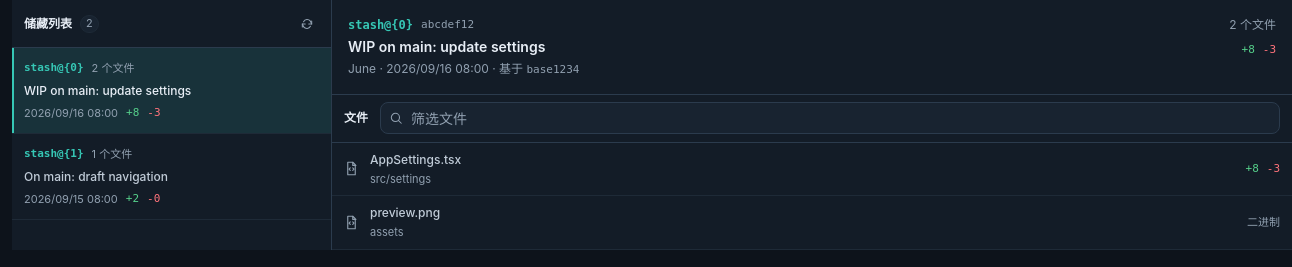
Test: RepositoryStashBrowser › returns to the right-clicked stash on Escape (shift: false)
Right-click the button with aria-label "stash@{1} On main: draft navigation" at (54, 154), box [12,134,331,220]
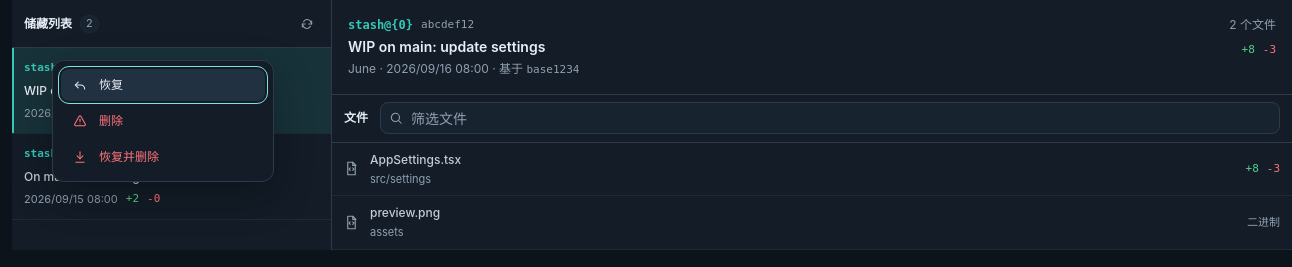
Press Escape in the menu item "恢复", box [61,69,265,101]
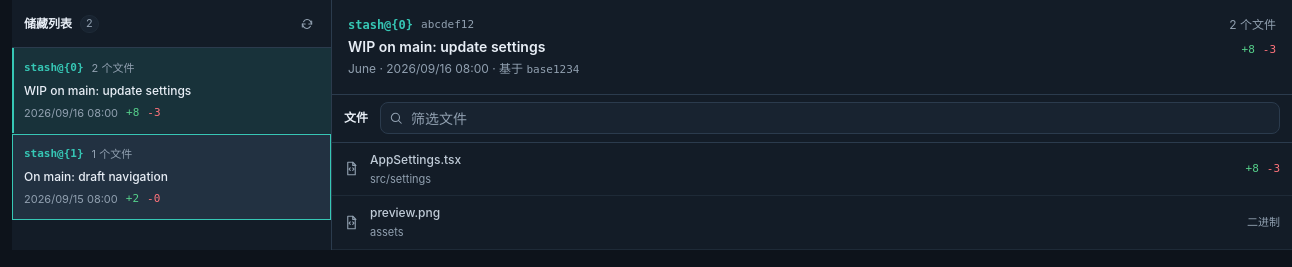
Check: the menu with class "repository-stash-context-menu" is gone
